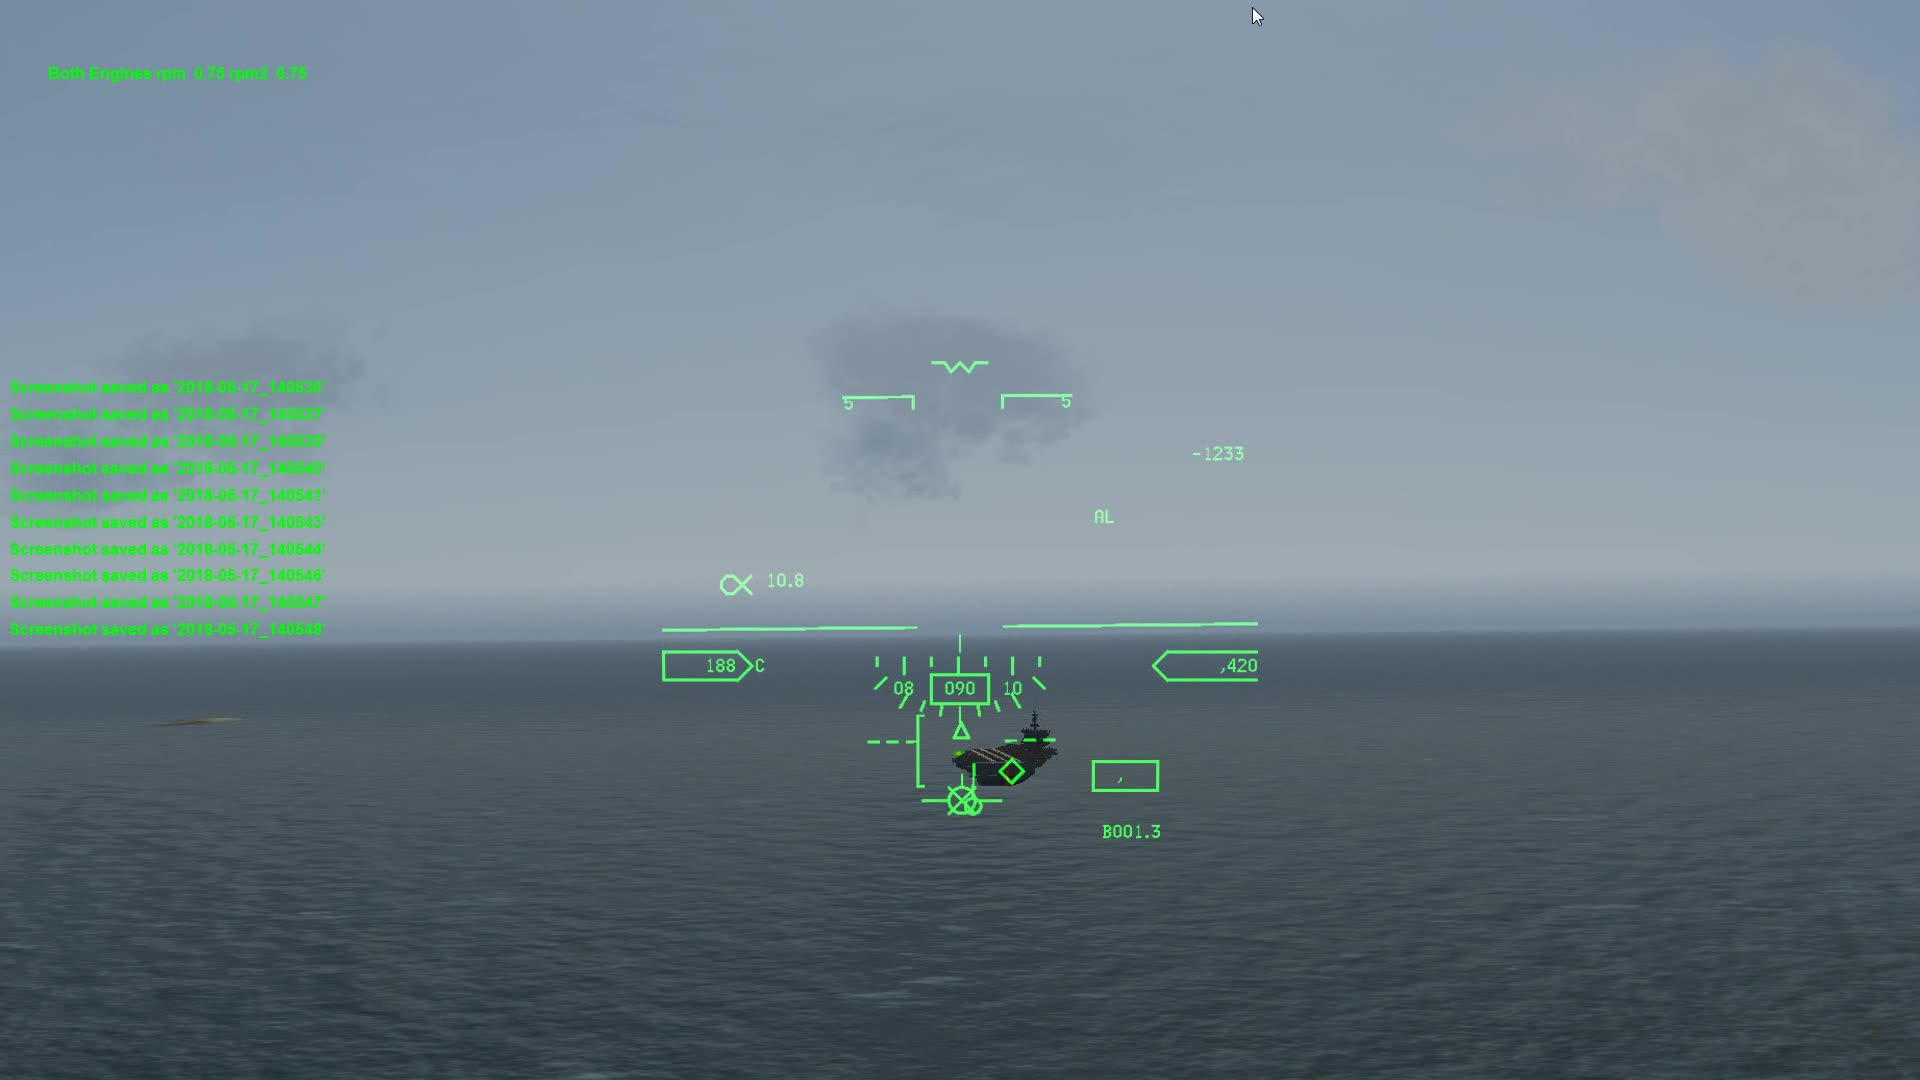speed vector: (922, 775, 1015, 825)
